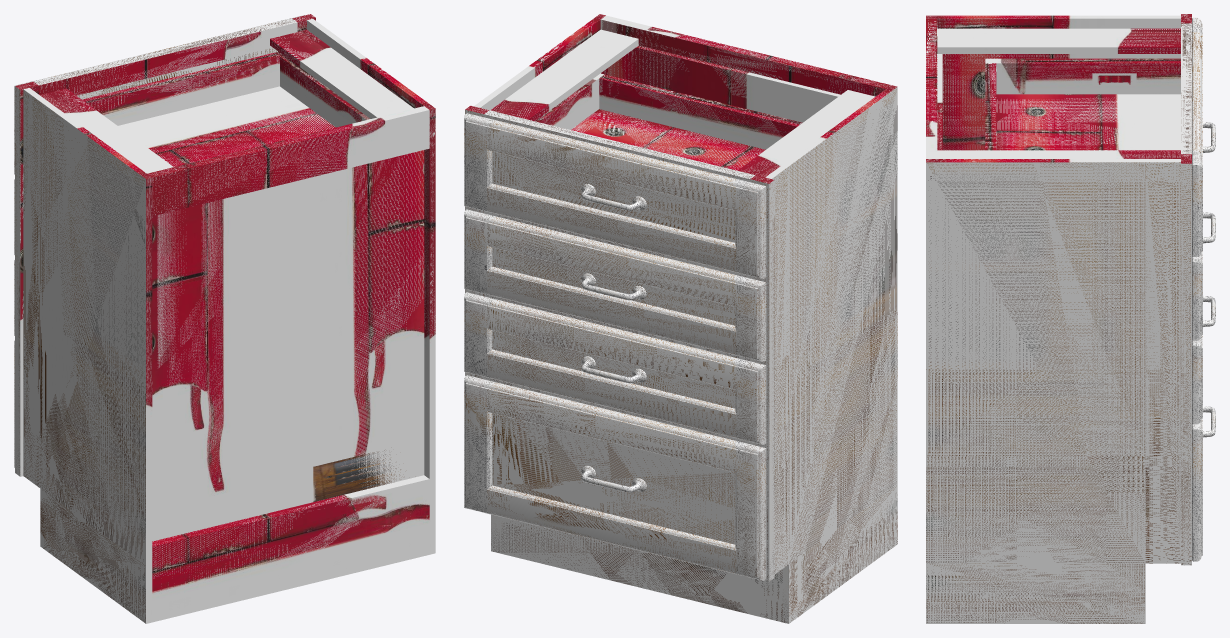
3 renders of one model, left to right at view 1: azimuth 30°, elevation 25°; view 2: azimuth 150°, elevation 25°; view 3: azimuth 270°, elevation 25°, orthographic. The views are drawn at different scales.
Visible parts, largest first — view 1: mesh4_mesh4-geometry, mesh7_mesh7-geometry, mesh12_mesh12-geometry, mesh3_mesh3-geometry, mesh19_mesh19-geometry, mesh6_mesh6-geometry, mesh8_mesh8-geometry, mesh17_mesh17-geometry, mesh10_mesh10-geometry, mesh5_mesh5-geometry, mesh14_mesh14-geometry, mesh2_mesh2-geometry (+4 smaller); view 2: mesh7_mesh7-geometry, mesh30_mesh30-geometry, mesh27_mesh27-geometry, mesh28_mesh28-geometry, mesh13_mesh13-geometry, mesh4_mesh4-geometry, mesh8_mesh8-geometry, mesh17_mesh17-geometry, mesh6_mesh6-geometry, mesh3_mesh3-geometry, mesh5_mesh5-geometry, mesh14_mesh14-geometry (+12 smaller); view 3: mesh10_mesh10-geometry, mesh9_mesh9-geometry, mesh11_mesh11-geometry, mesh19_mesh19-geometry, mesh7_mesh7-geometry, mesh16_mesh16-geometry, mesh15_mesh15-geometry, mesh2_mesh2-geometry, mesh14_mesh14-geometry, mesh3_mesh3-geometry, mesh22_mesh22-geometry, mesh25_mesh25-geometry (+8 smaller).
Part boxes in pixels (x1,y1,x2,y2): mesh4_mesh4-geometry: [152, 150, 424, 541]; mesh7_mesh7-geometry: [40, 100, 152, 565]; mesh12_mesh12-geometry: [152, 475, 429, 622]; mesh3_mesh3-geometry: [147, 106, 429, 216]; mesh19_mesh19-geometry: [118, 86, 335, 166]; mesh6_mesh6-geometry: [23, 88, 45, 487]; mesh8_mesh8-geometry: [40, 489, 152, 623]; mesh17_mesh17-geometry: [82, 52, 279, 125]; mesh10_mesh10-geometry: [323, 31, 435, 496]; mesh5_mesh5-geometry: [34, 18, 297, 95]; mesh14_mesh14-geometry: [270, 30, 413, 118]; mesh2_mesh2-geometry: [15, 14, 315, 476]; mesh7_mesh7-geometry: [783, 85, 897, 563]; mesh30_mesh30-geometry: [494, 152, 734, 543]; mesh27_mesh27-geometry: [491, 120, 736, 471]; mesh28_mesh28-geometry: [491, 183, 734, 573]; mesh13_mesh13-geometry: [497, 516, 782, 622]; mesh4_mesh4-geometry: [601, 45, 840, 122]; mesh8_mesh8-geometry: [782, 485, 897, 623]; mesh17_mesh17-geometry: [599, 74, 802, 149]; mesh6_mesh6-geometry: [765, 165, 788, 574]; mesh3_mesh3-geometry: [600, 15, 890, 96]; mesh5_mesh5-geometry: [484, 110, 755, 443]; mesh14_mesh14-geometry: [490, 29, 638, 121]; mesh10_mesh10-geometry: [926, 159, 1145, 563]; mesh9_mesh9-geometry: [1145, 159, 1180, 563]; mesh11_mesh11-geometry: [926, 563, 1145, 623]; mesh19_mesh19-geometry: [996, 94, 1180, 150]; mesh7_mesh7-geometry: [926, 15, 1145, 150]; mesh16_mesh16-geometry: [985, 58, 1180, 94]; mesh15_mesh15-geometry: [937, 28, 1180, 53]; mesh2_mesh2-geometry: [1181, 14, 1191, 565]; mesh14_mesh14-geometry: [937, 150, 1180, 158]; mesh3_mesh3-geometry: [926, 18, 937, 158]; mesh22_mesh22-geometry: [1192, 150, 1202, 459]; mesh25_mesh25-geometry: [1192, 193, 1202, 531].
Bounding box in the file's own units: 0.5175 × 0.7438 × 0.423.
